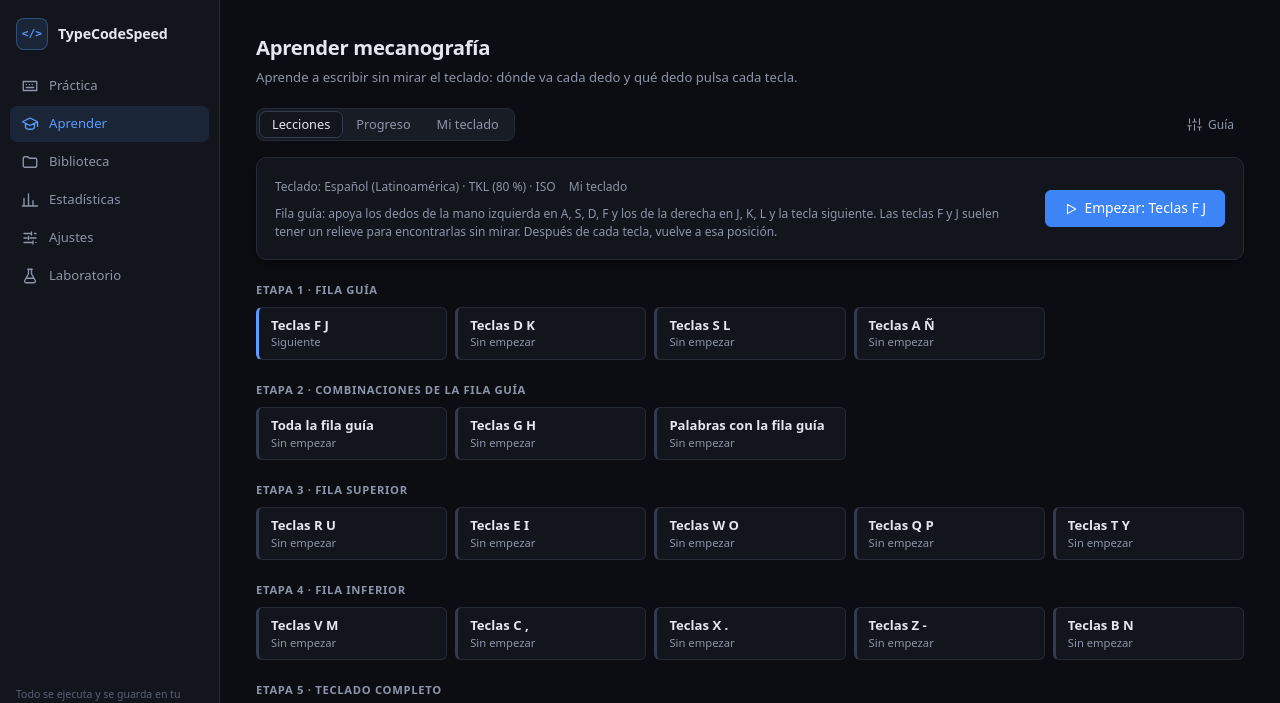
sección Aprender › la configuración del teclado se guarda y cambia las lecciones y el teclado dibujado
Click the button "Aprender". click: (110, 124)
box: [10,106,209,142]
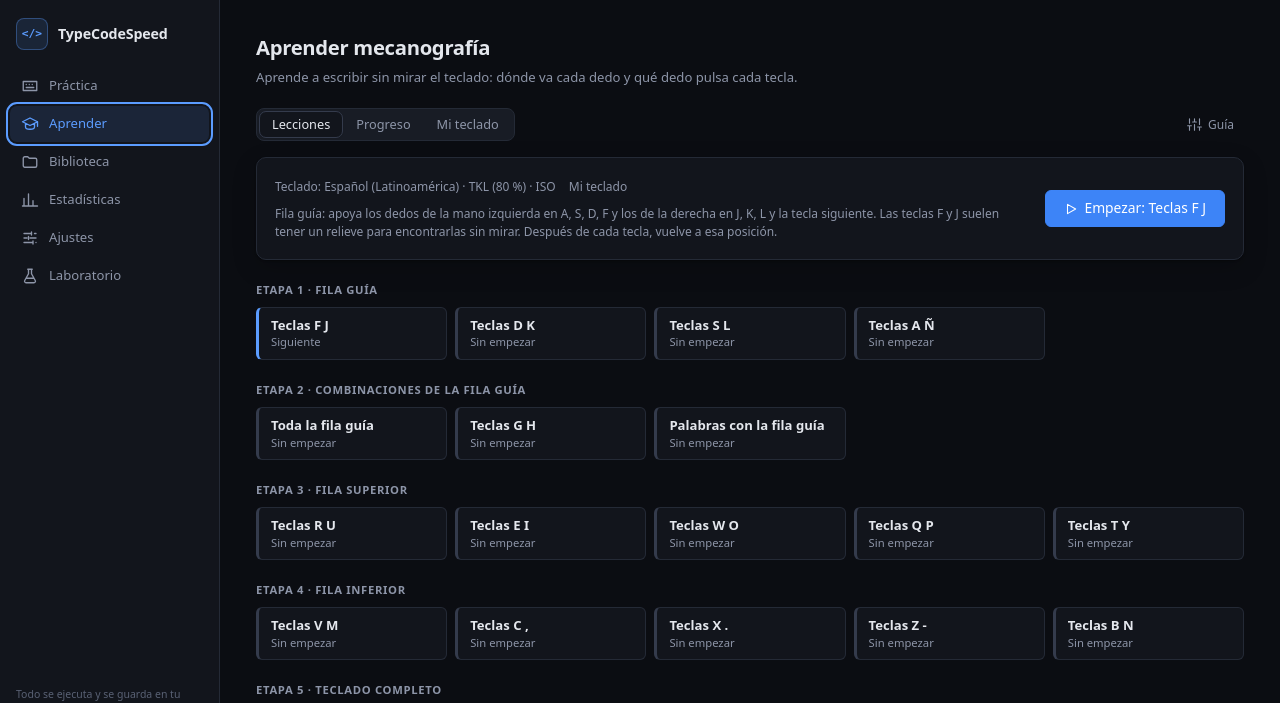
Expected: the button "Teclas A Ñ Sin empezar" is shown, [854,307,1045,360]
Click the tab "Mi teclado". click: (468, 125)
box: [425,112,511,137]
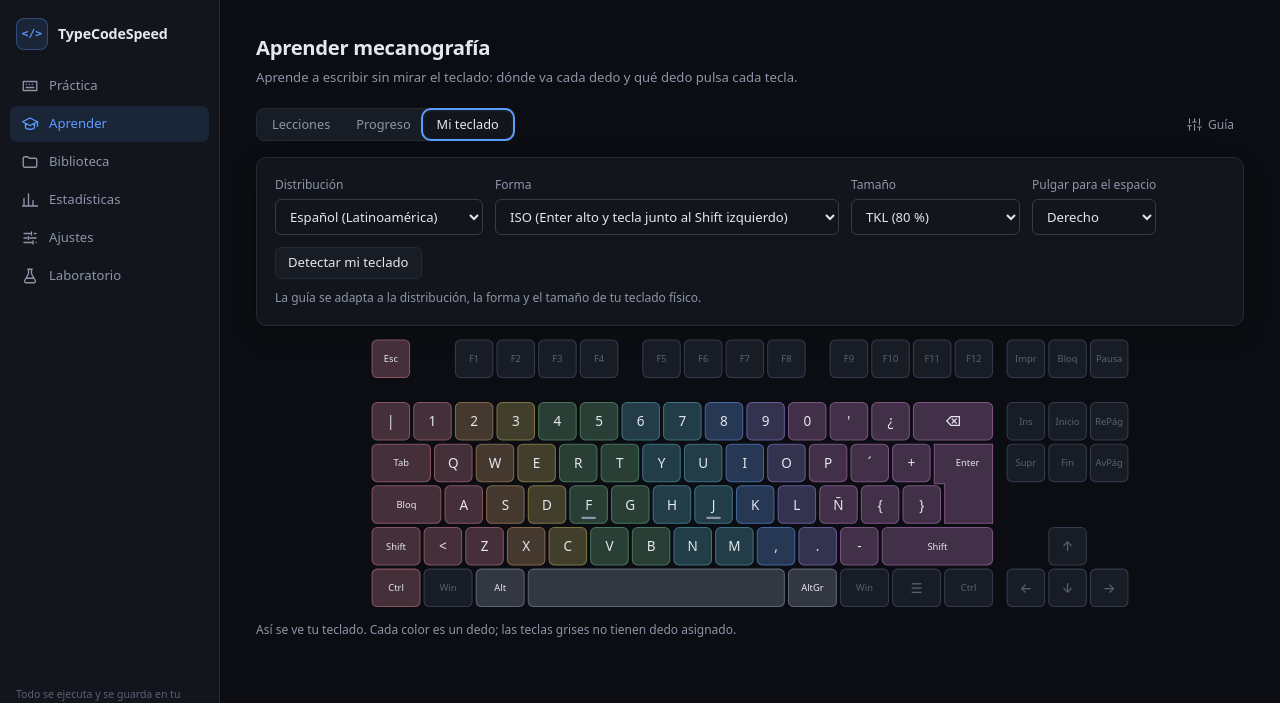
Select "Inglés (EE. UU.)" in the dropdown labelled "Distribución". click: (379, 217)
box: [275,199,483,235]
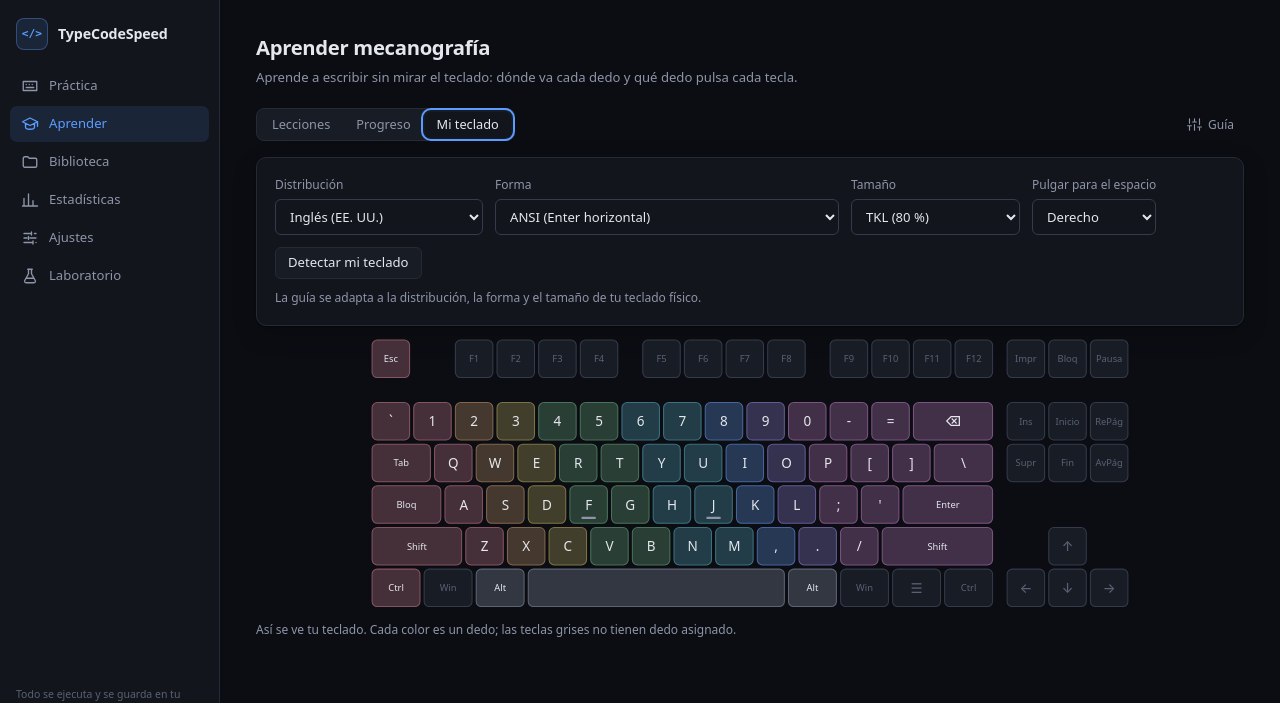
Select "60 %" in the dropdown labelled "Tamaño". click: (936, 217)
box: [851,199,1020,235]
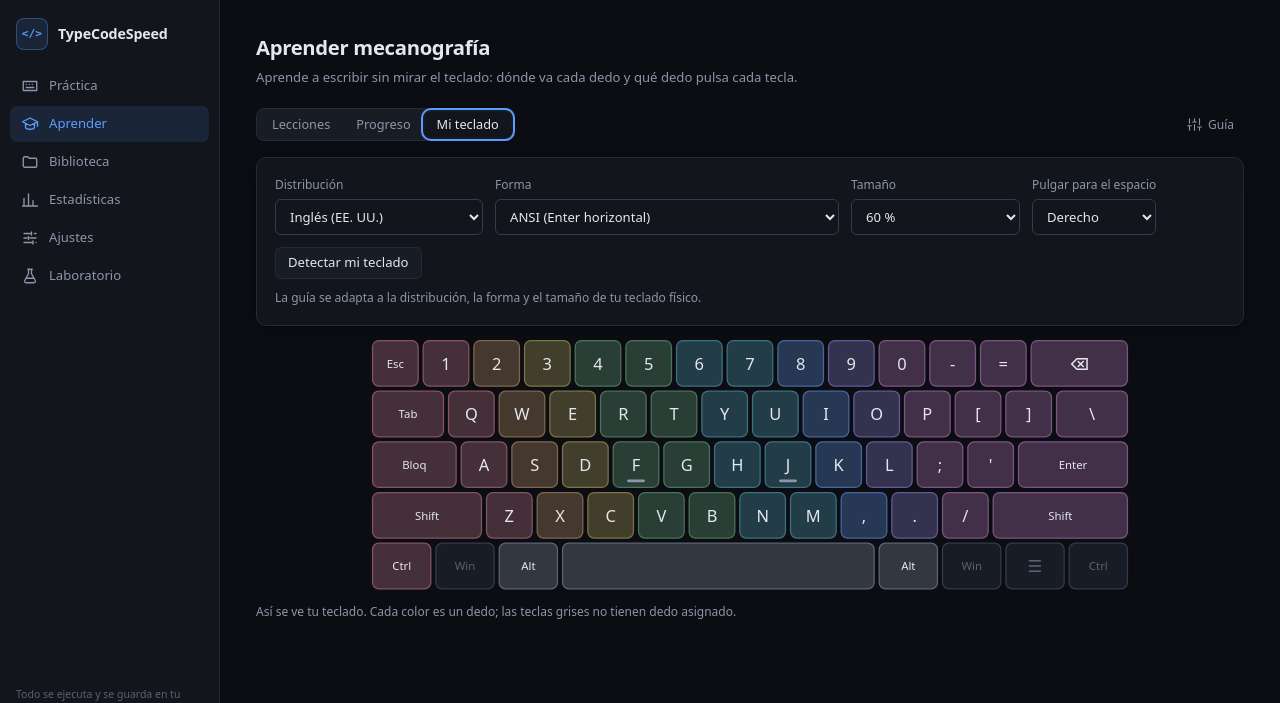
Click the tab "Lecciones". click: (301, 125)
box: [260,112,342,137]
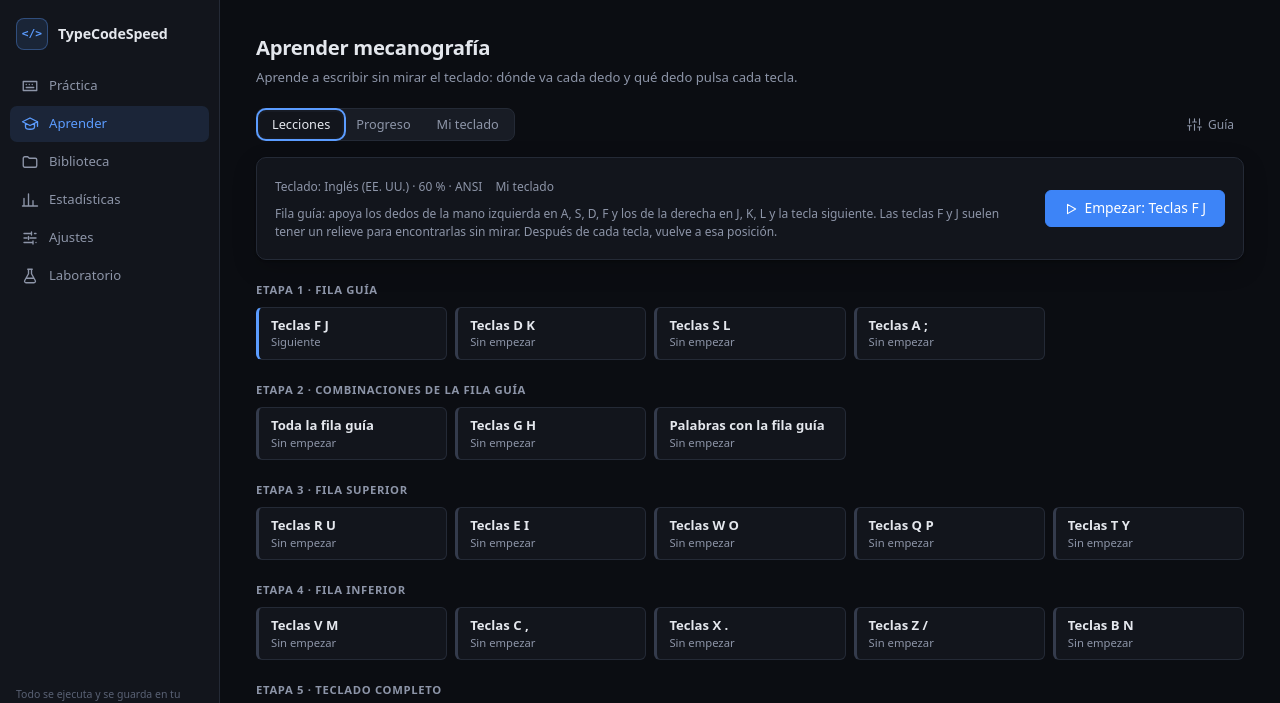
Expected: the button "Acentos" is not shown
Expected: the button "Teclas A ; Sin empezar" is shown, [854,307,1045,360]
